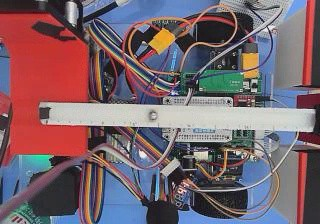ironball: (147, 110, 157, 121)
